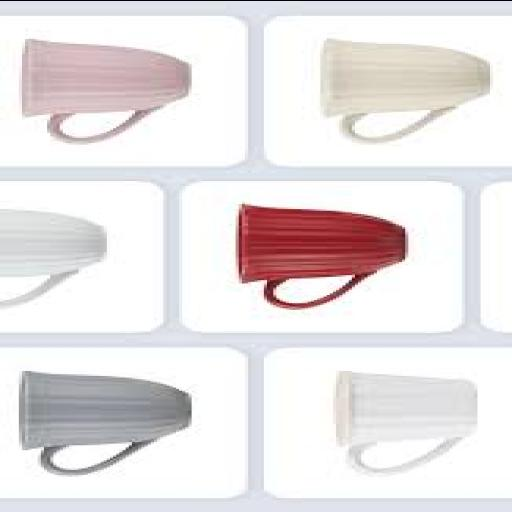red mug: (239, 203, 402, 307)
